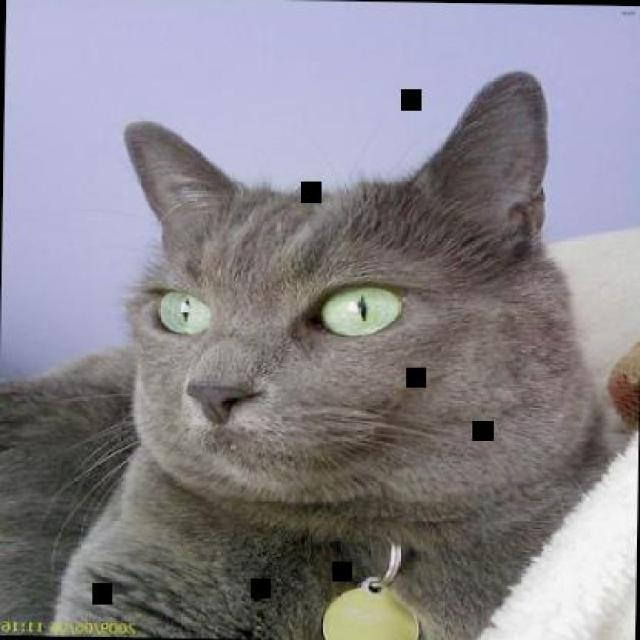cat: (0, 60, 614, 638)
